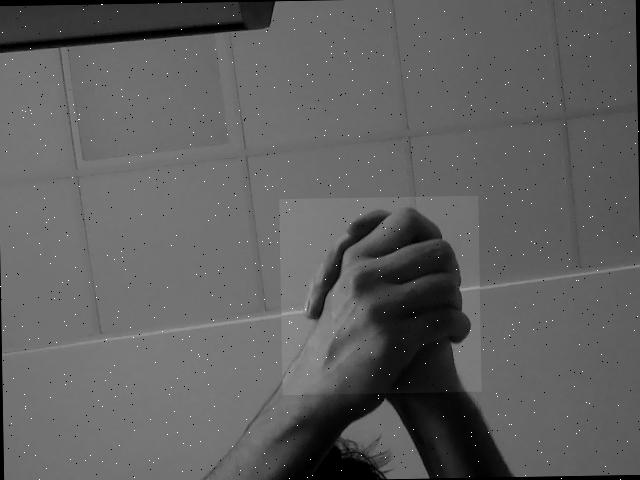friend: (282, 198, 480, 392)
